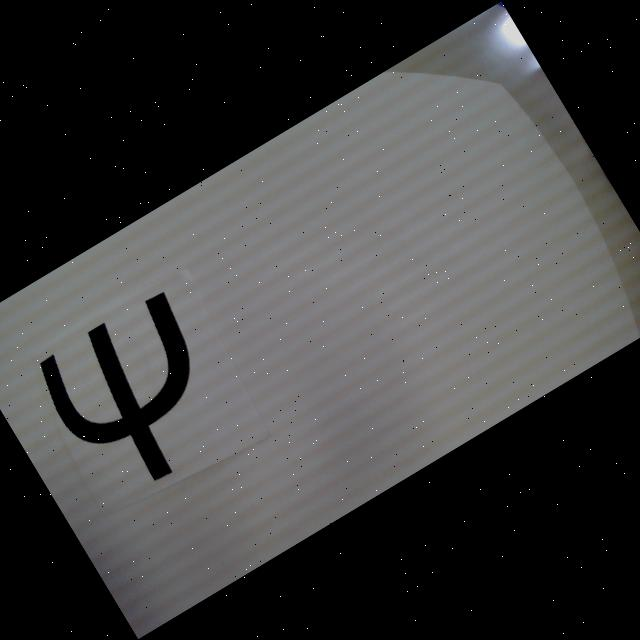PSI: (29, 287, 247, 509)
